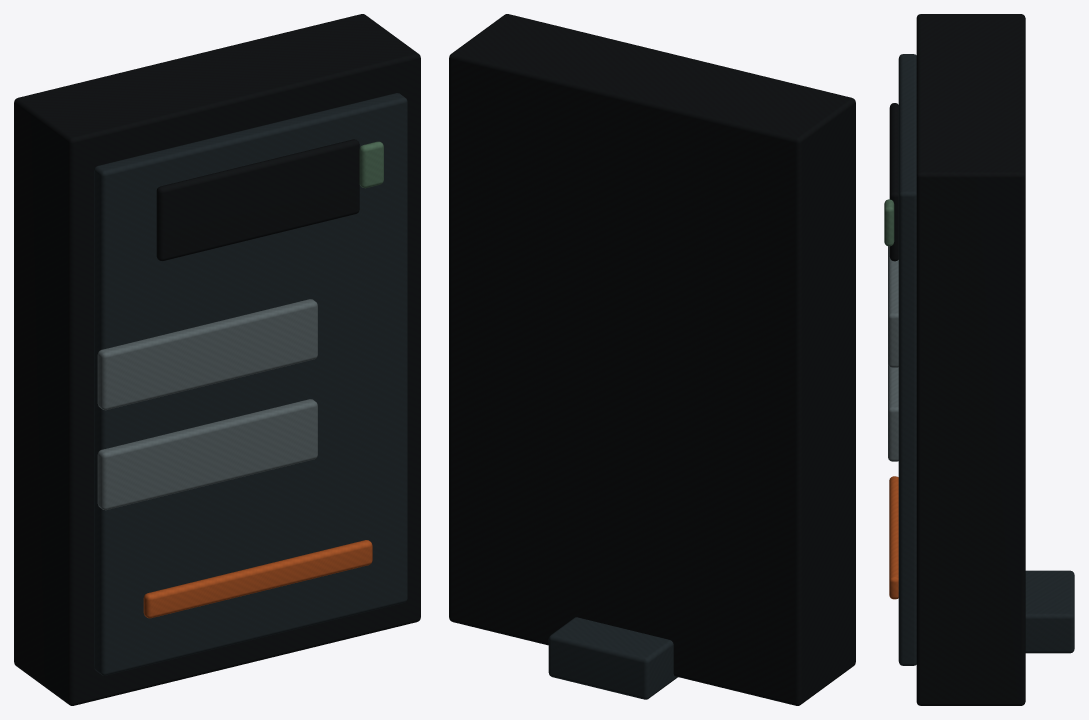
Rendered from WallPatchPanel.fbx.
The picture shows the model from 3 angles, left to right: view 1: azimuth 30°, elevation 25°; view 2: azimuth 150°, elevation 25°; view 3: azimuth 270°, elevation 25°; orthographic projection. The views are drawn at different scales.
Visible parts, largest first — view 1: WallPatchPanel_Mesh; view 2: WallPatchPanel_Mesh; view 3: WallPatchPanel_Mesh.
Boxes of the visible parts, left/top/right/bottom form: WallPatchPanel_Mesh: left=14, top=14, right=420, bottom=705; WallPatchPanel_Mesh: left=449, top=14, right=855, bottom=705; WallPatchPanel_Mesh: left=884, top=14, right=1074, bottom=705.
Size of the model in its own units: 70 by 109 by 34.9.
5 materials, 5 textured.
